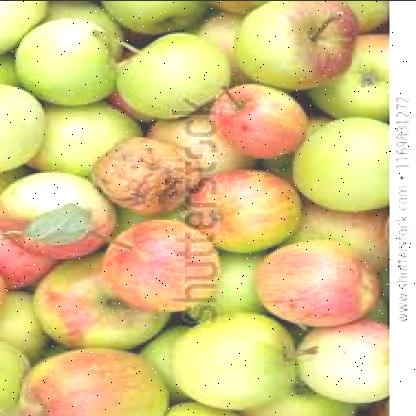apple: (35, 257, 163, 342), (6, 164, 110, 260), (110, 222, 218, 312), (260, 239, 364, 327), (123, 38, 227, 126), (183, 316, 286, 404), (233, 2, 337, 86), (24, 350, 156, 416), (29, 96, 134, 178), (292, 115, 378, 206), (25, 20, 116, 98), (297, 322, 383, 400)
damaged_apple: (92, 133, 202, 217)
